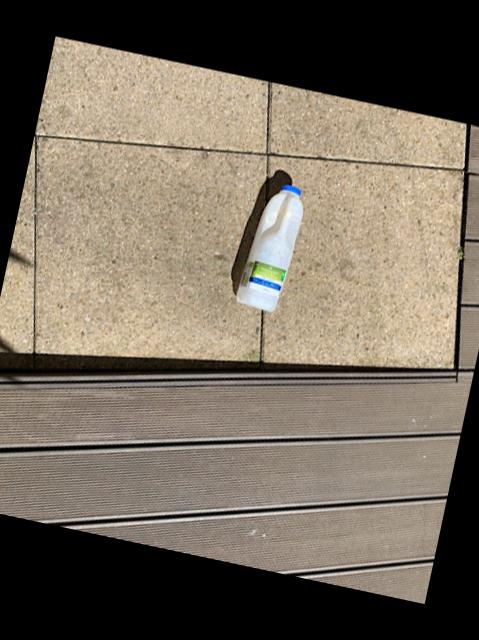plastic: (236, 186, 302, 312)
